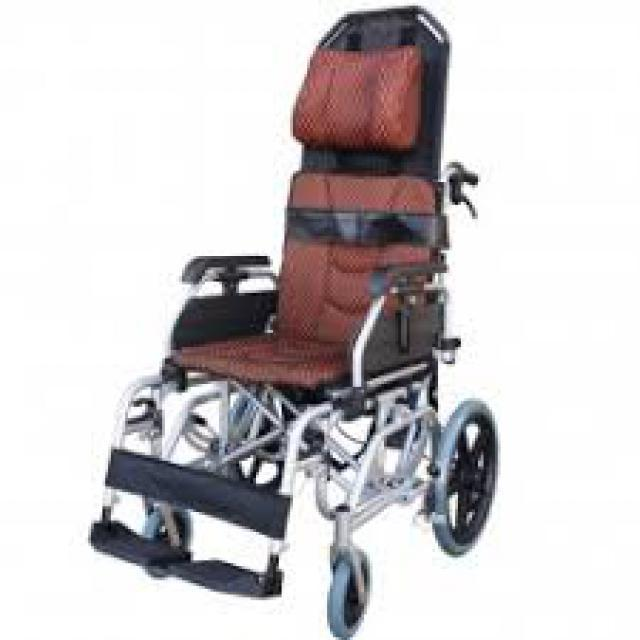wheelchair: (59, 2, 510, 638)
